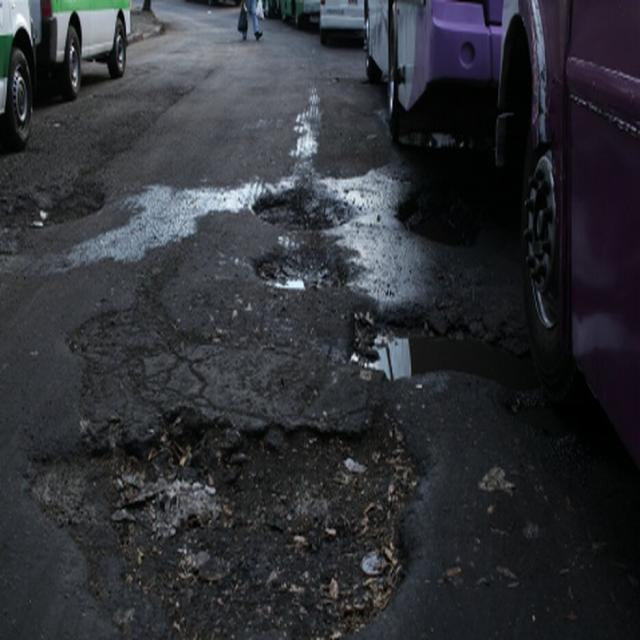Buraco: (15, 399, 432, 640), (340, 301, 571, 443), (244, 230, 366, 294), (390, 179, 486, 249), (0, 180, 112, 236), (250, 185, 356, 233)
